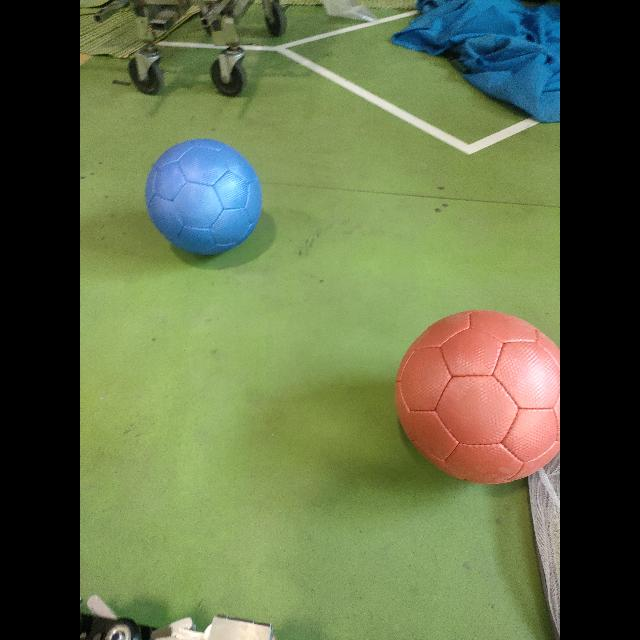B: (144, 140, 263, 260)
R: (394, 310, 560, 487)
